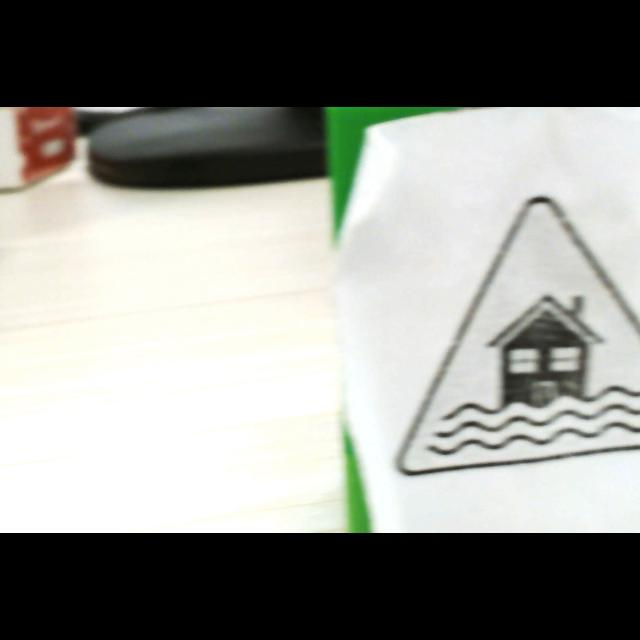Tsunami: (397, 196, 640, 476)
